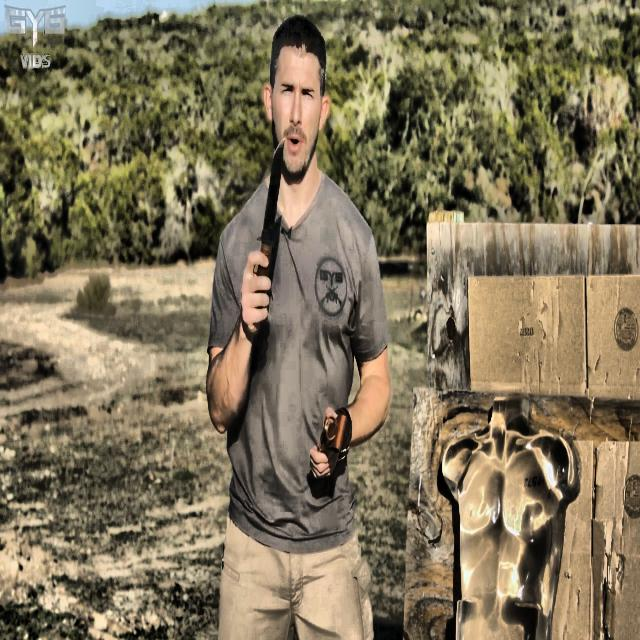knife: (255, 137, 286, 276)
